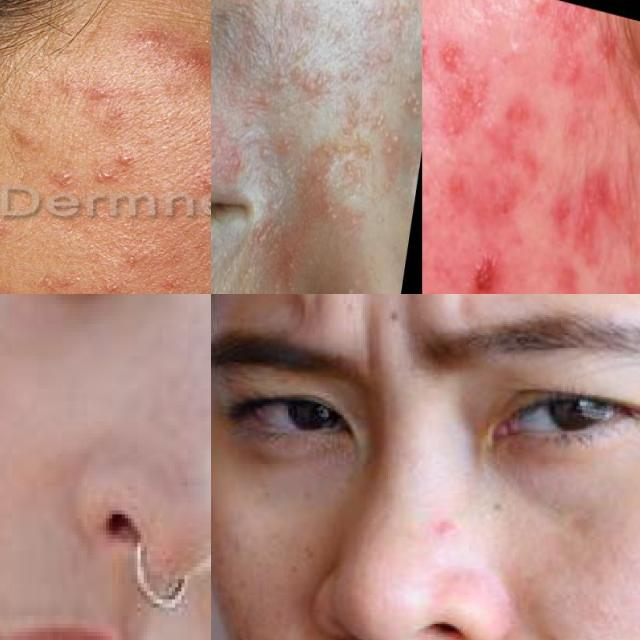acne_scars: (564, 166, 627, 274), (435, 86, 476, 159), (498, 99, 550, 143), (534, 192, 575, 246), (444, 168, 482, 220), (490, 181, 517, 230)
comedone: (492, 20, 533, 84)
pustule: (395, 81, 422, 124), (422, 25, 429, 69)
sebo-crystan-conglo: (462, 250, 501, 294)
